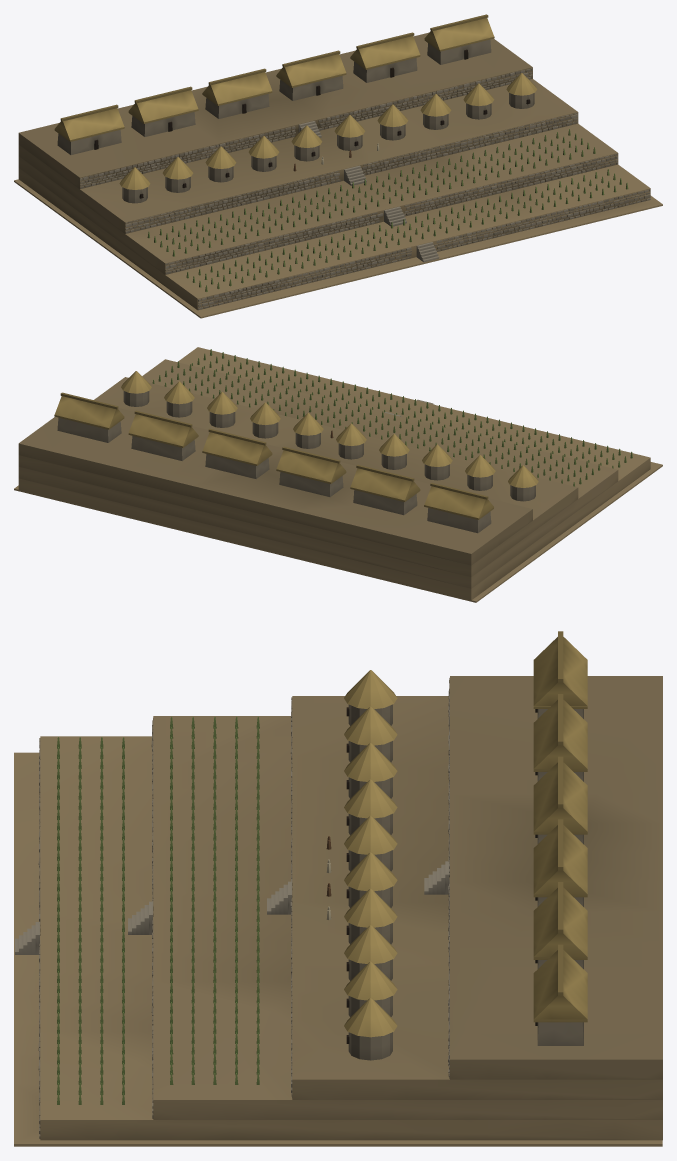
Rendered from qollqampata.glb.
3 views of the same model, one above another, from view 1: azimuth 30°, elevation 25°; view 2: azimuth 150°, elevation 25°; view 3: azimuth 270°, elevation 25° (orthographic). The views are drawn at different scales.
Visible parts, largest first — view 1: p0_terraces, p1_storehouses, p2_roofs; view 2: p0_terraces, p2_roofs, p1_storehouses; view 3: p0_terraces, p2_roofs, p1_storehouses.
Part boxes in pixels (left/top/right/bottom): p0_terraces: left=14, top=32, right=662, bottom=318; p1_storehouses: left=57, top=39, right=628, bottom=291; p2_roofs: left=54, top=14, right=537, bottom=189; p0_terraces: left=14, top=347, right=662, bottom=602; p2_roofs: left=54, top=371, right=538, bottom=519; p1_storehouses: left=57, top=349, right=632, bottom=533; p0_terraces: left=14, top=676, right=662, bottom=1146; p2_roofs: left=344, top=631, right=587, bottom=1037; p1_storehouses: left=57, top=704, right=583, bottom=1104.
Size of the model in its own units: 100 by 16.55 by 70.04.
